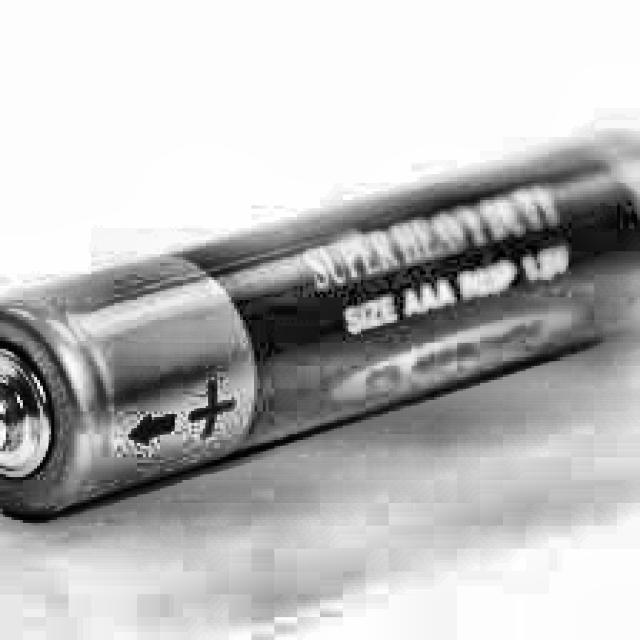Battery: (3, 134, 640, 520)
